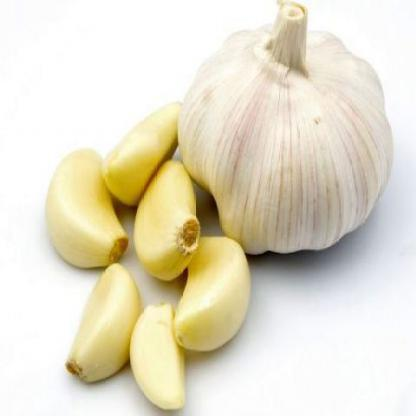garlic: (181, 15, 400, 246), (34, 136, 127, 268), (65, 262, 140, 383), (183, 226, 247, 358), (132, 163, 202, 277), (105, 94, 178, 184), (126, 312, 188, 412)
